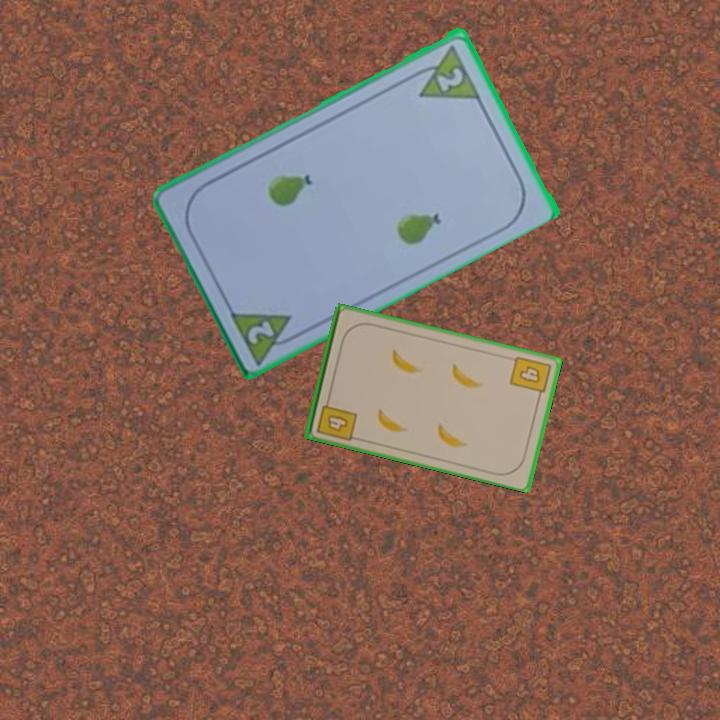2p: (406, 40, 482, 102), (244, 316, 278, 347)
4b: (506, 352, 554, 402), (313, 393, 360, 444)
